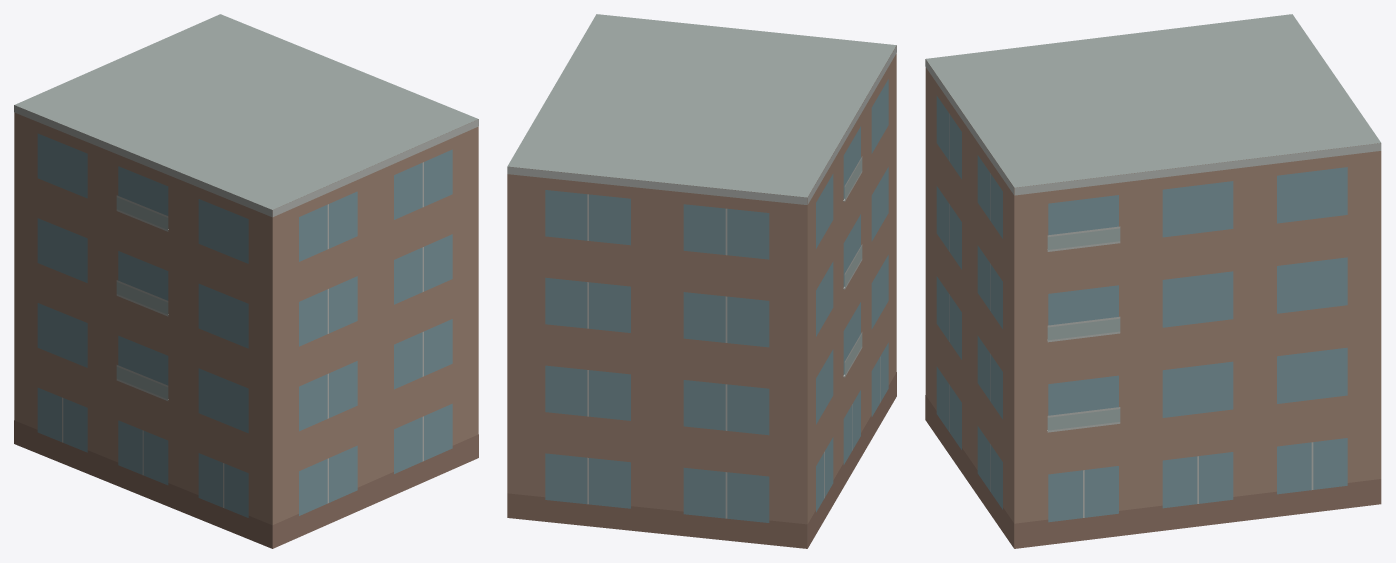
File: survey-upis-33014084.glb
3 views of the same model, side by side, from view 1: azimuth 30°, elevation 25°; view 2: azimuth 150°, elevation 25°; view 3: azimuth 270°, elevation 25° (orthographic). The views are drawn at different scales.
Parts seen in each view (by area): view 1: survey-upis-33014084.tmp; view 2: survey-upis-33014084.tmp; view 3: survey-upis-33014084.tmp.
Boxes of the visible parts, x1,y1,x2,y2 form: survey-upis-33014084.tmp: [14, 14, 478, 548]; survey-upis-33014084.tmp: [507, 14, 896, 548]; survey-upis-33014084.tmp: [925, 14, 1381, 548].
Size of the model in its own units: 11.56 by 11.2 by 12.82.
